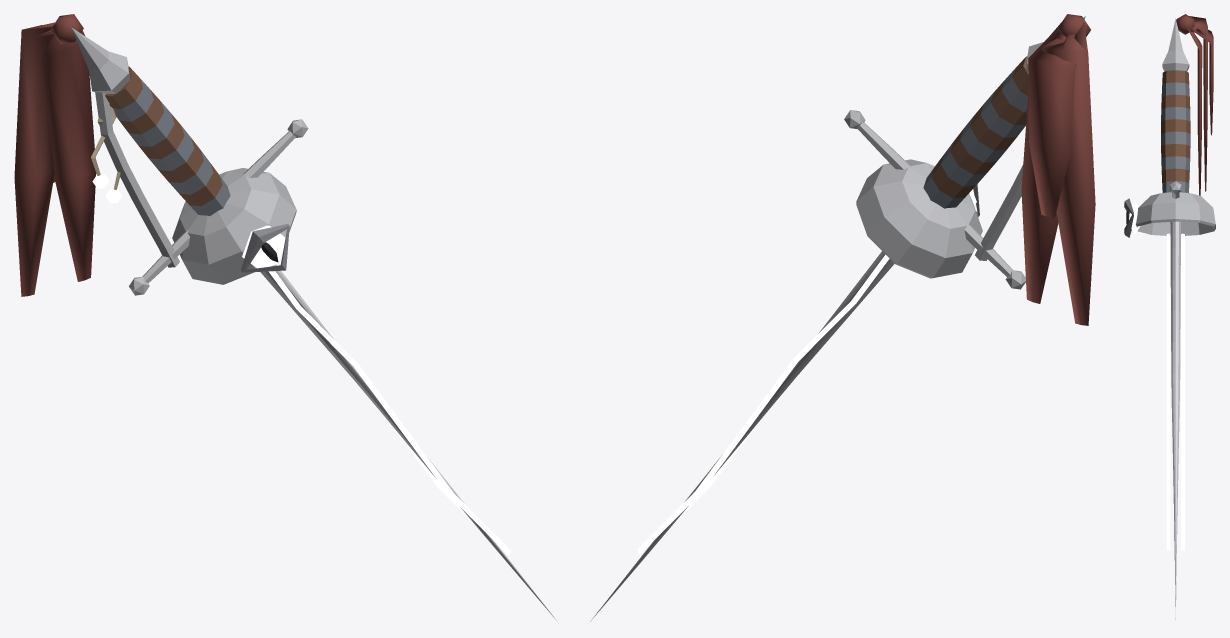
Rendered from blade-lunge.glb.
3 views of the same model, side by side, from view 1: azimuth 30°, elevation 25°; view 2: azimuth 150°, elevation 25°; view 3: azimuth 270°, elevation 25° (orthographic). The views are drawn at different scales.
Parts seen in each view (by area): view 1: blade-lunge, pulse_vein, blink_eye; view 2: blade-lunge, pulse_vein; view 3: blade-lunge, pulse_vein, blink_eye.
Part boxes in pixels (<box>): blade-lunge: <box>14,14,557,621</box>; pulse_vein: <box>268,271,510,555</box>; blink_eye: <box>240,224,289,272</box>; blade-lunge: <box>590,14,1095,621</box>; pulse_vein: <box>637,254,889,553</box>; blade-lunge: <box>1135,14,1215,619</box>; pulse_vein: <box>1166,233,1184,550</box>; blink_eye: <box>1124,198,1140,237</box>.
Size of the model in its own units: 0.793 by 1.05 by 0.1901.
